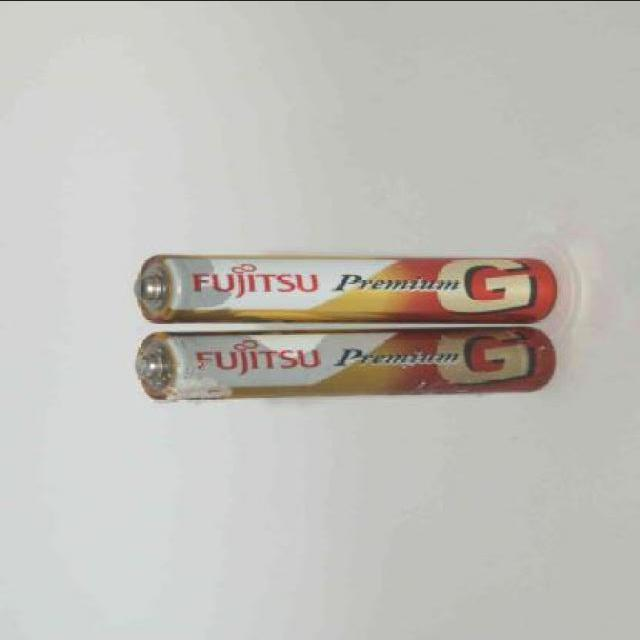AAA: (124, 323, 560, 406), (129, 248, 562, 324)
